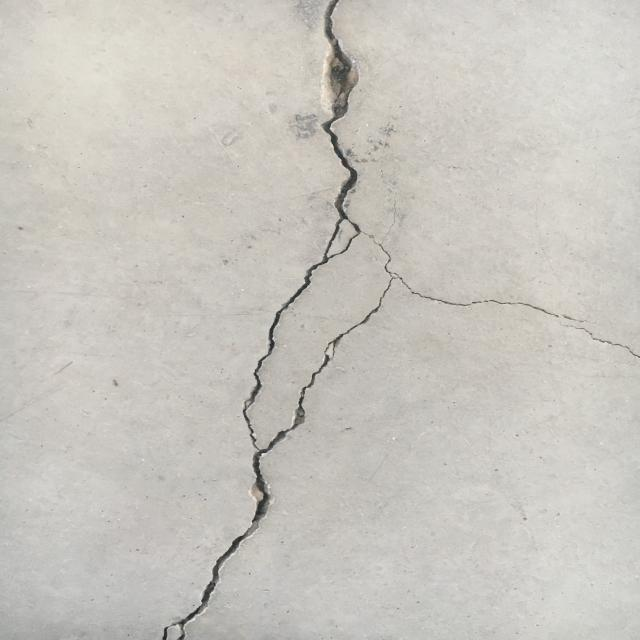Rachadura: (177, 0, 640, 640)
